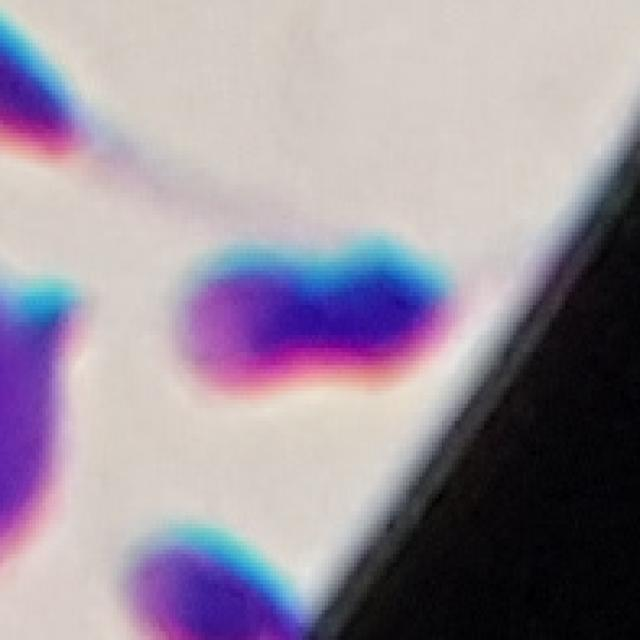abnormal sperm: (167, 230, 474, 400)
